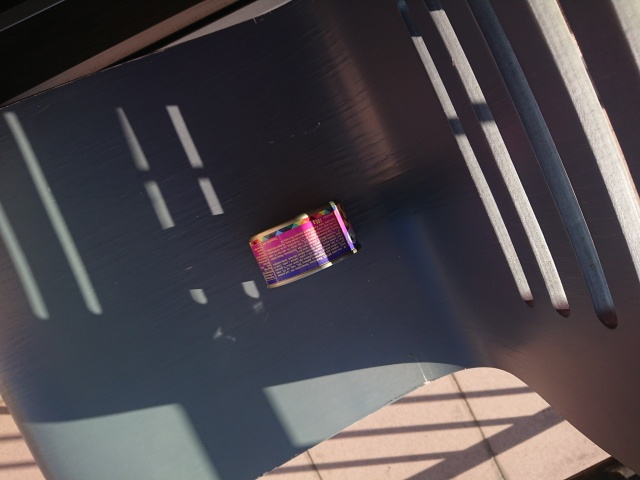Giana Tuna Salad Mexico 185g: (244, 196, 363, 292)
